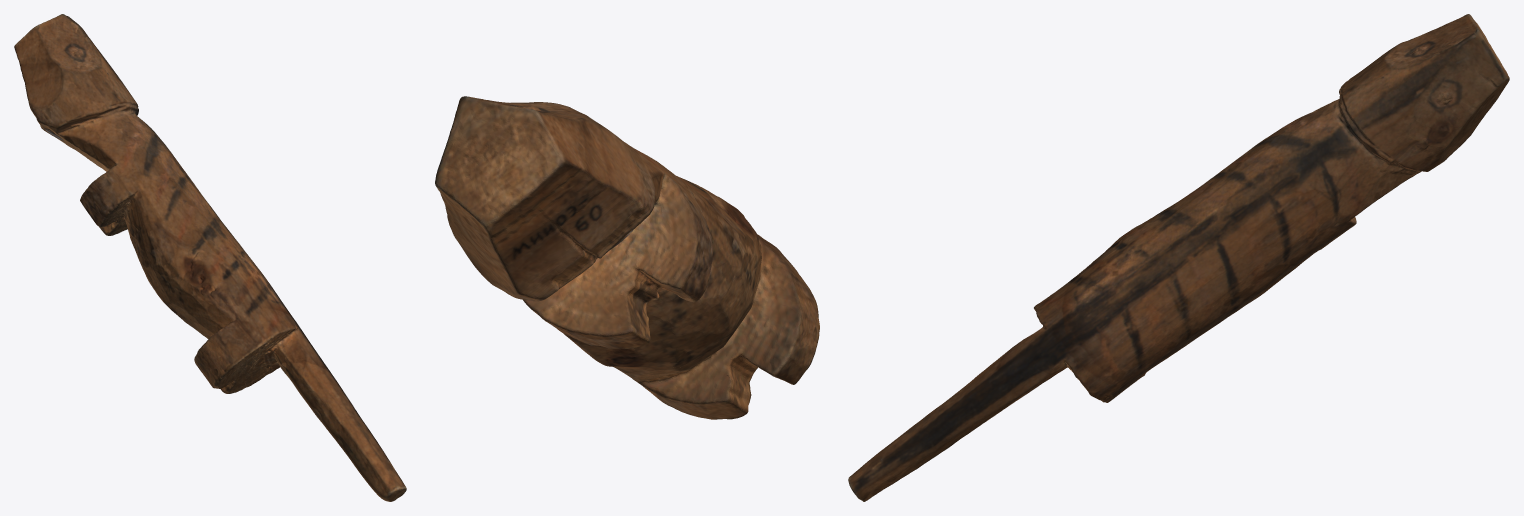
Rendered from Тигрлп.glb.
3 renders of one model, left to right at view 1: azimuth 30°, elevation 25°; view 2: azimuth 150°, elevation 25°; view 3: azimuth 270°, elevation 25°, orthographic. The views are drawn at different scales.
Parts seen in each view (by area): view 1: Model_00; view 2: Model_00; view 3: Model_00.
Part boxes in pixels (x1,y1,x2,y2): Model_00: (14, 14, 406, 501); Model_00: (435, 96, 819, 419); Model_00: (848, 14, 1509, 501).
Bounding box in the file's own units: 80.62 × 163 × 233.
1 material, 1 textured.
